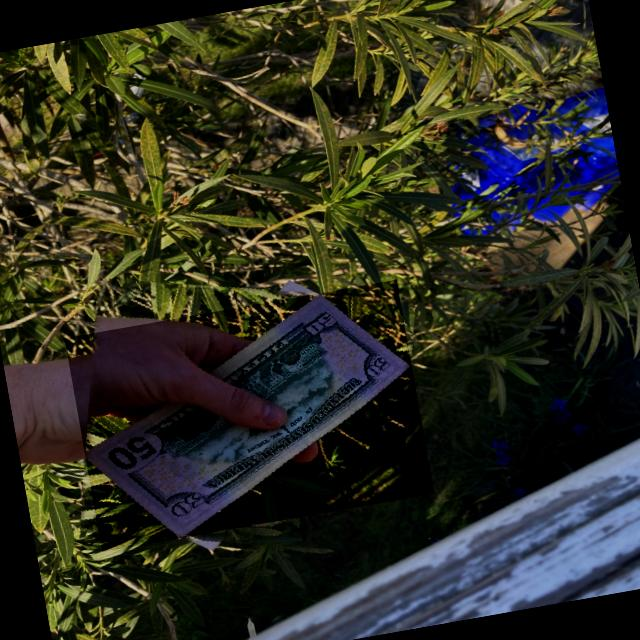fifty: (85, 267, 411, 554)
